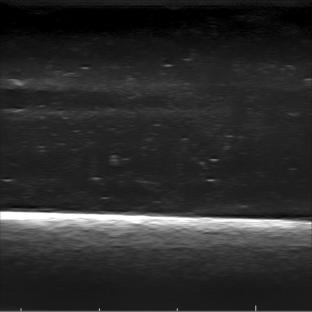vessel: (0, 77, 117, 119)
